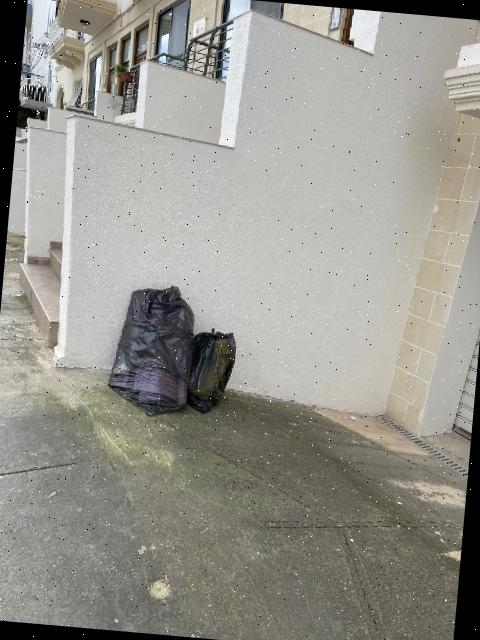Mixed -Black-: (108, 287, 193, 415), (188, 328, 235, 412)
